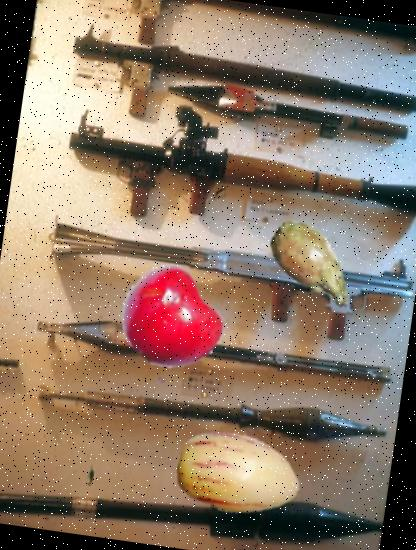Cactus: (256, 206, 374, 325)
Cherry: (113, 261, 233, 381)
Pepino: (170, 404, 312, 546)
